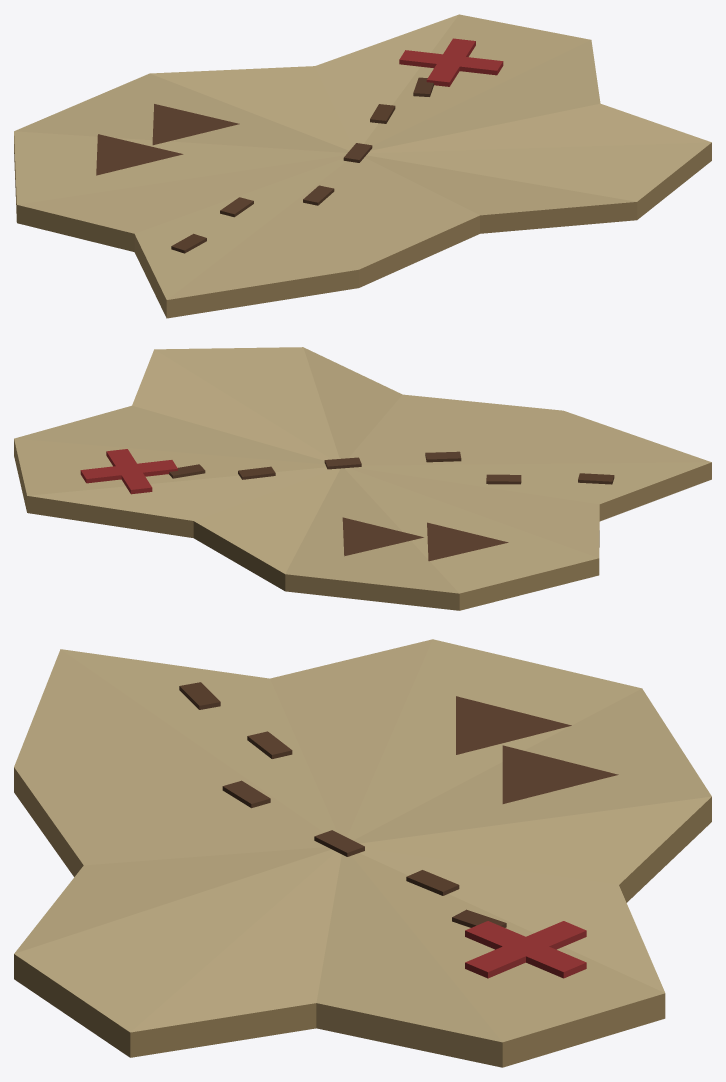
The model's file is quest_map_scrap.glb.
3 renders of one model, top to bottom at view 1: azimuth 30°, elevation 25°; view 2: azimuth 150°, elevation 25°; view 3: azimuth 270°, elevation 25°, orthographic. The views are drawn at different scales.
Parts seen in each view (by area): view 1: quest_map_scrap; view 2: quest_map_scrap; view 3: quest_map_scrap.
Part boxes in pixels (bbox=[...]): quest_map_scrap: bbox=[14, 14, 711, 318]; quest_map_scrap: bbox=[14, 347, 711, 610]; quest_map_scrap: bbox=[14, 639, 711, 1067].
Bounding box in the file's own units: 0.41 × 0.0155 × 0.3.
